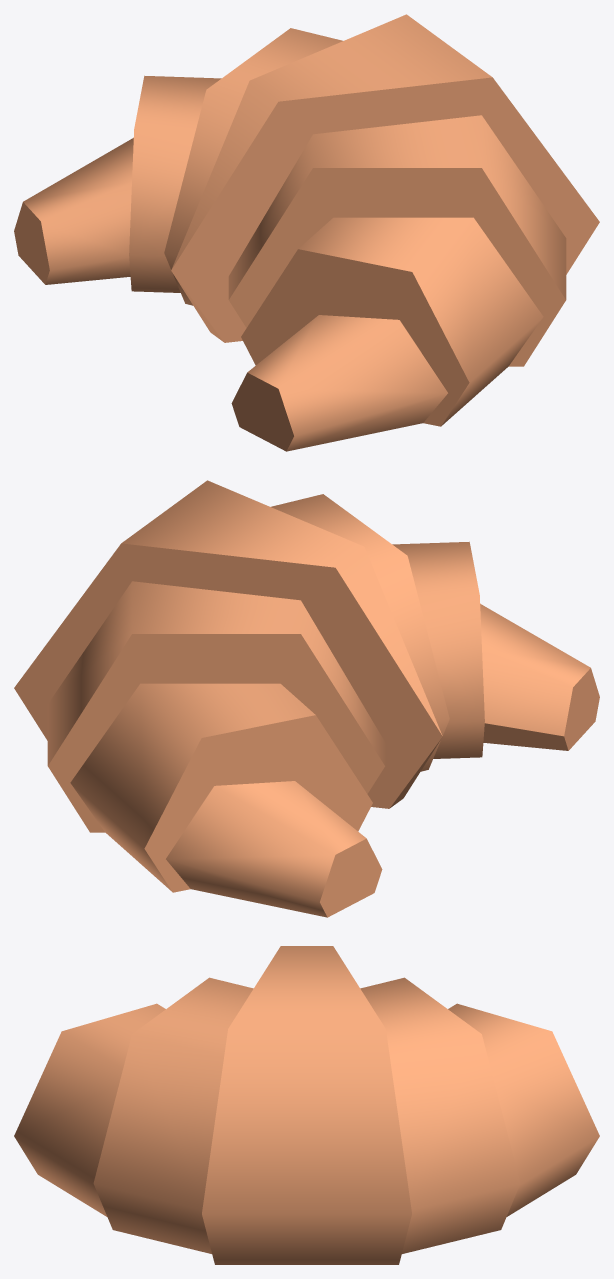
The model's file is croissant.GLB.
3 renders of one model, top to bottom at view 1: azimuth 30°, elevation 25°; view 2: azimuth 150°, elevation 25°; view 3: azimuth 270°, elevation 25°, orthographic. The views are drawn at different scales.
Parts seen in each view (by area): view 1: croissant; view 2: croissant; view 3: croissant.
Part boxes in pixels (x1,y1,x2,y2): croissant: (14, 14, 599, 451); croissant: (14, 480, 599, 917); croissant: (14, 946, 599, 1264).
Bounding box in the file's own units: 0.3461 × 0.1936 × 0.4777.
